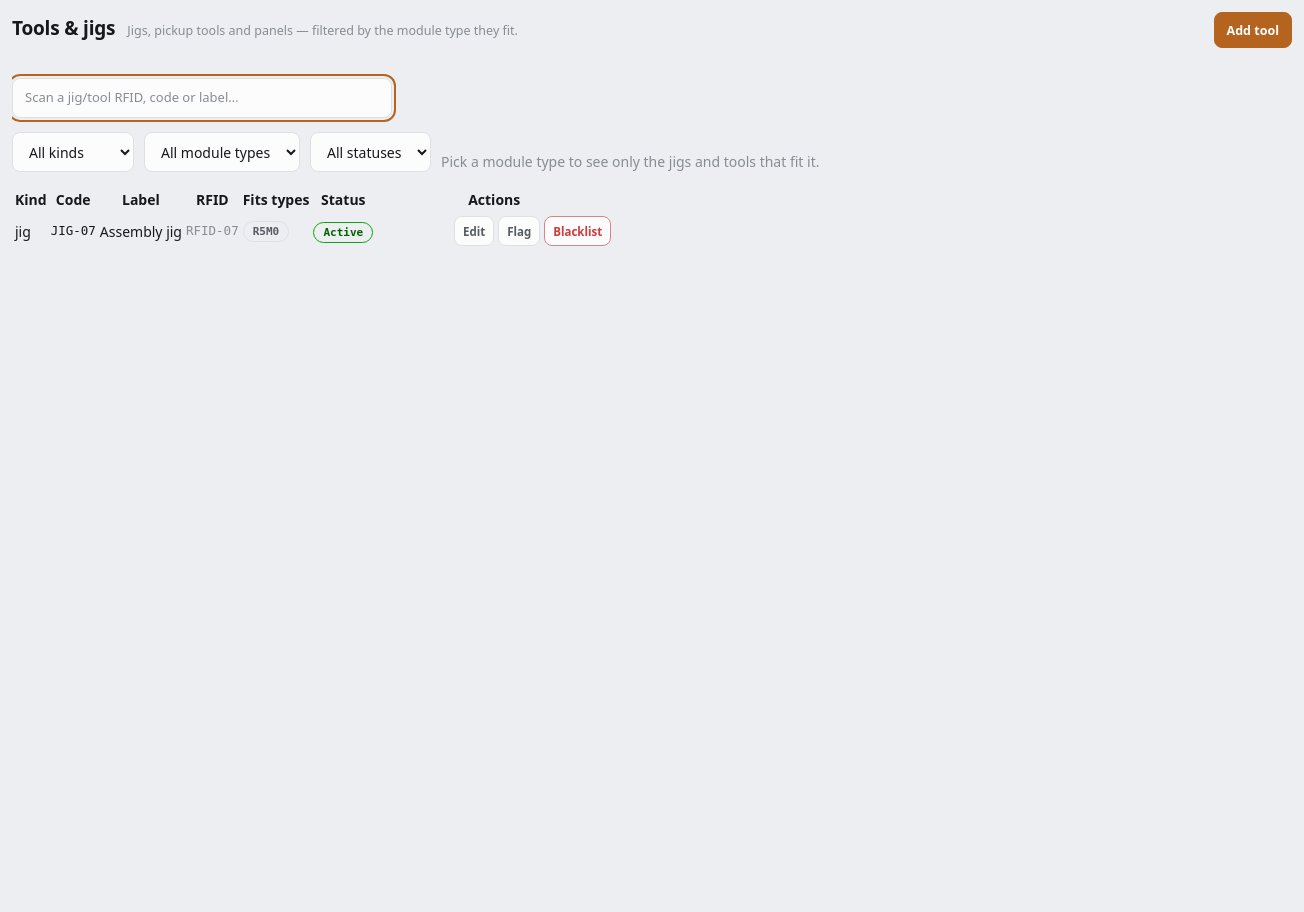
Test: ToolsScreen › creates normalized structured tool data in the selected institute
Check: the text "JIG-07" is shown, box left=50, top=213, right=97, bottom=249
Click the button "Add tool": (1253, 30) left=1214, top=12, right=1292, bottom=48
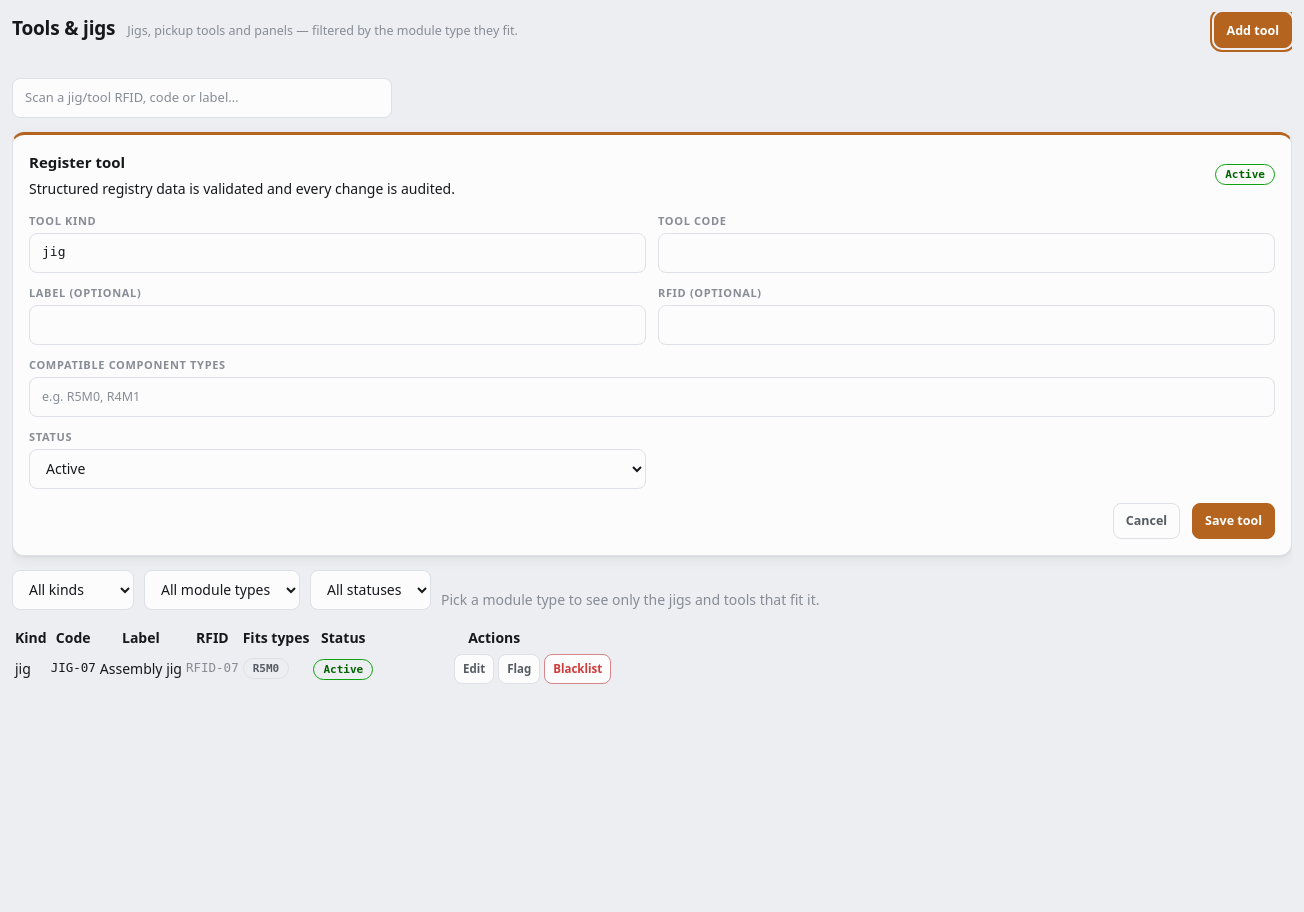
Replace the text in the field labelled "Tool kind" with "pickup_tool": (338, 252) left=29, top=232, right=646, bottom=272
In the field labelled "Tool code": (966, 252) left=658, top=232, right=1275, bottom=272, type "PICKUP-08"
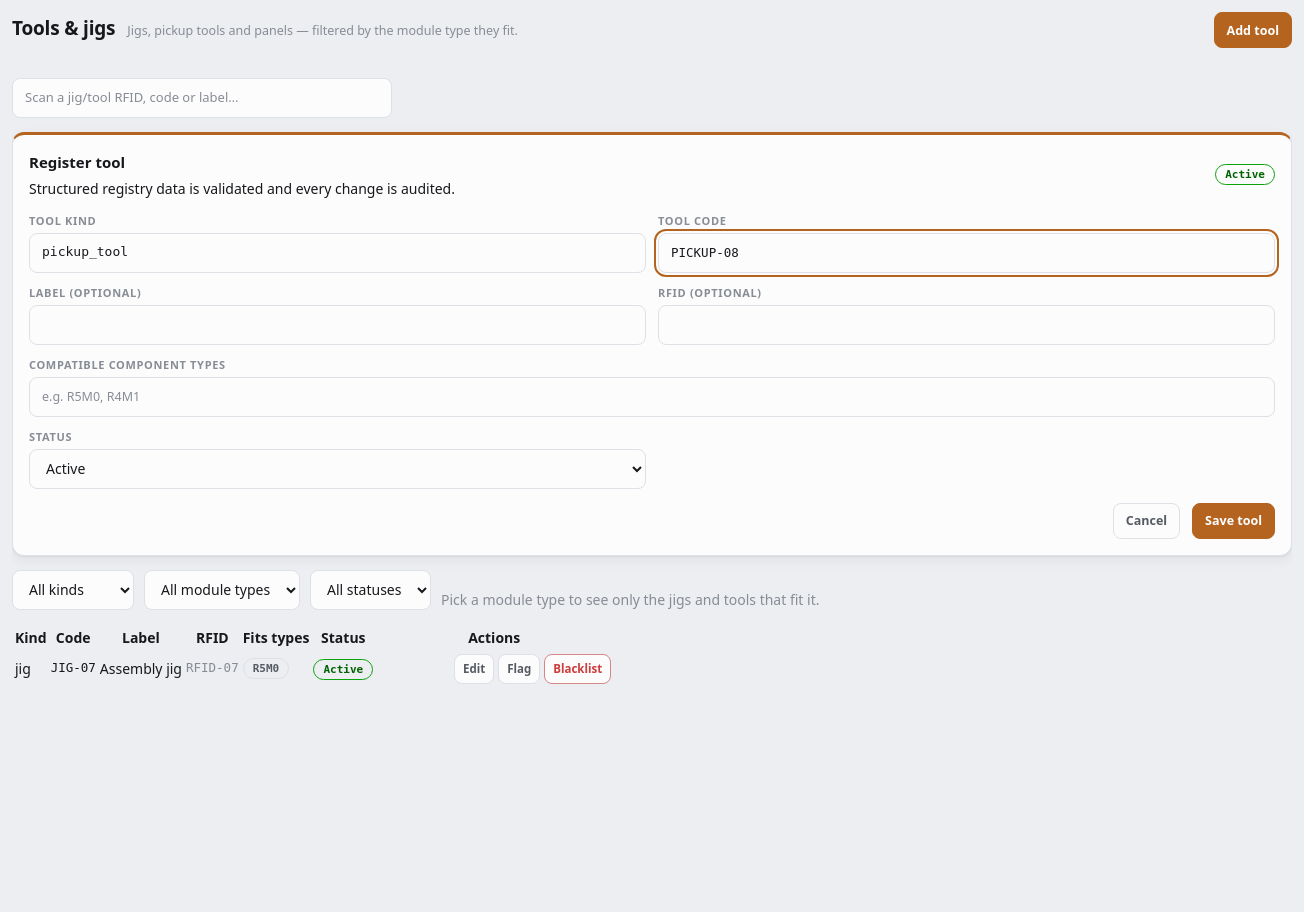
In the field labelled "Label (optional)": (338, 324) left=29, top=304, right=646, bottom=344, type "Pickup station"
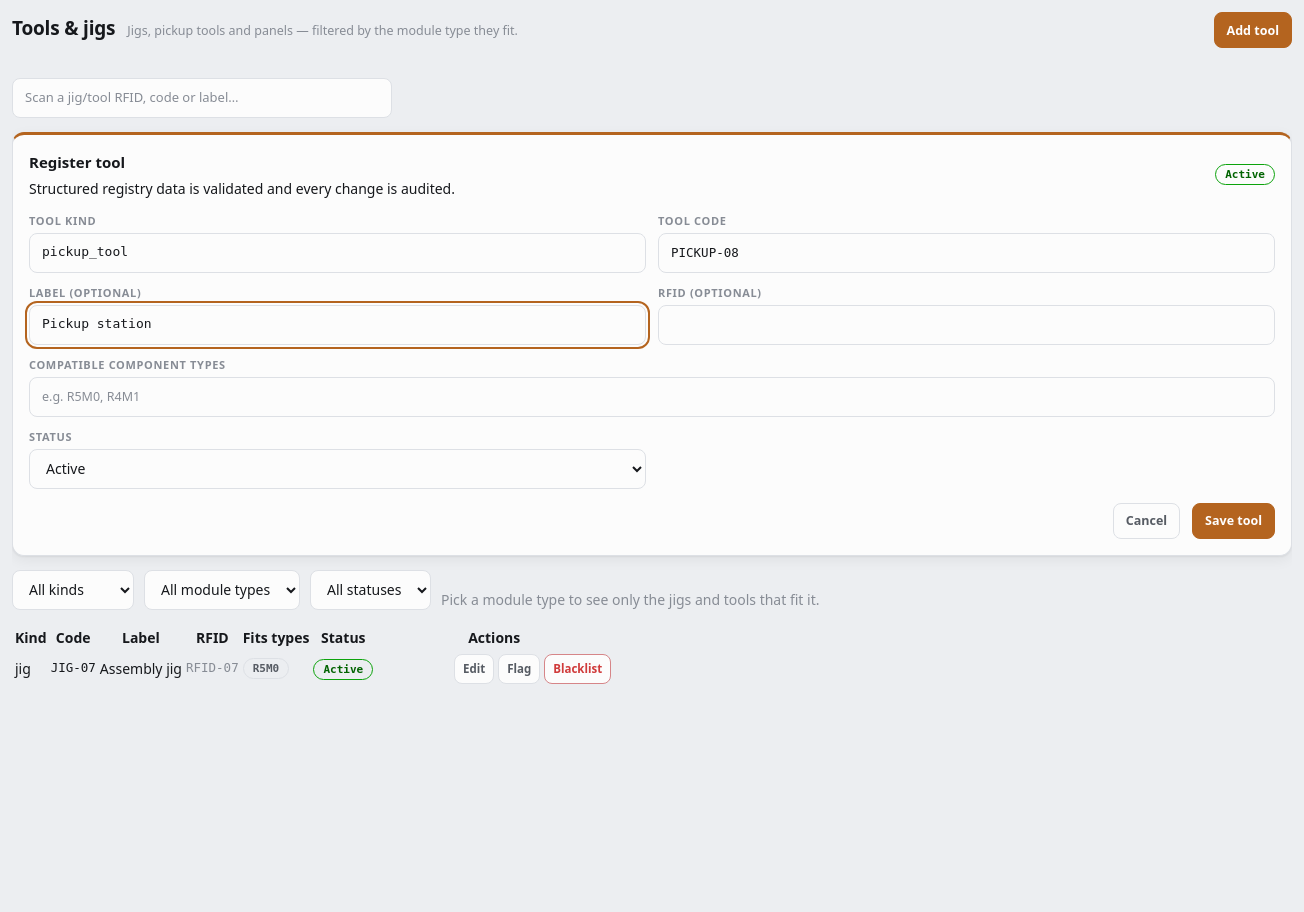
In the field labelled "RFID (optional)": (966, 324) left=658, top=304, right=1275, bottom=344, type "TAG-08"
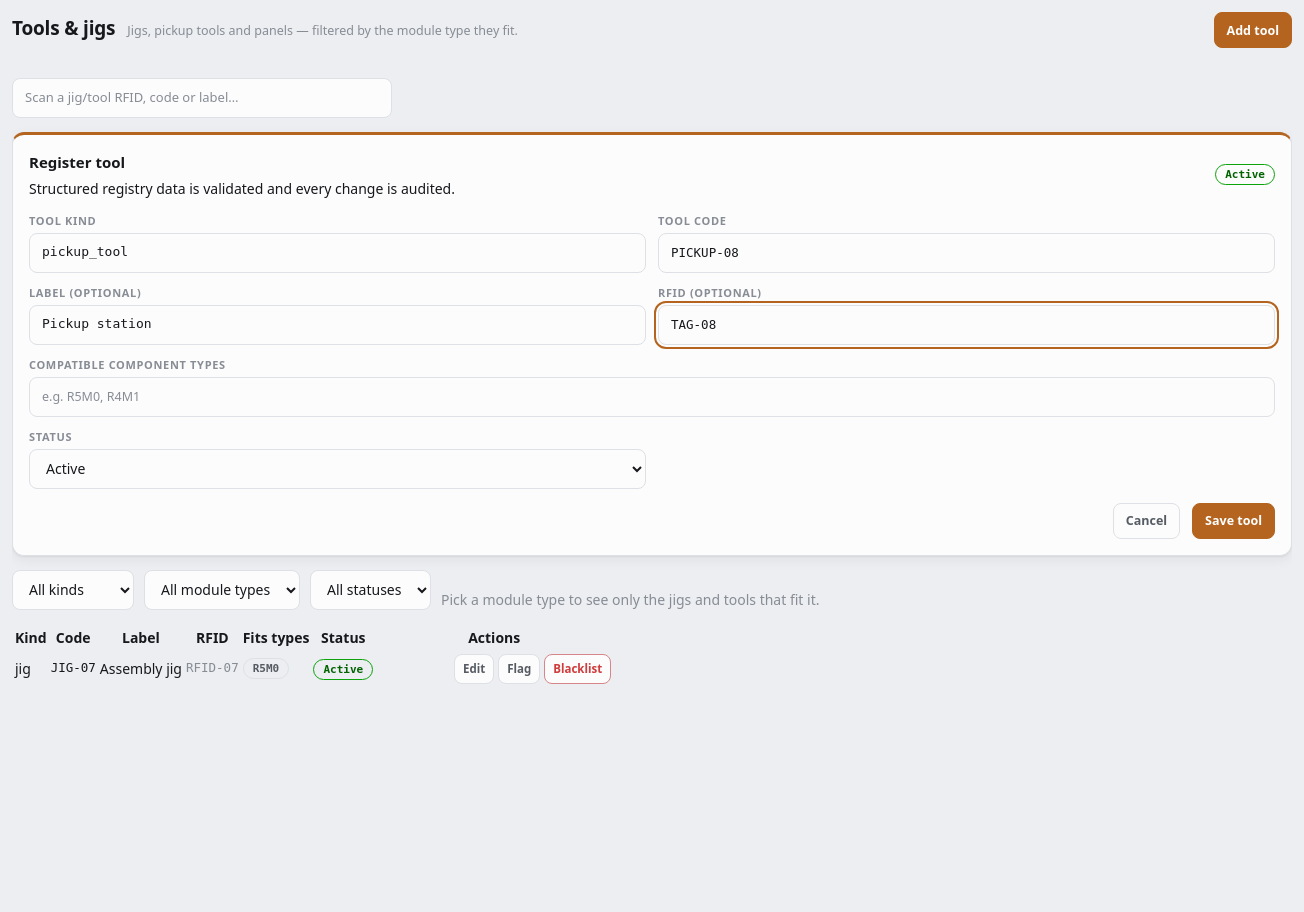
In the field labelled "Compatible component types": (652, 396) left=29, top=376, right=1275, bottom=416, type "r5m0, R5M1 r5m0"
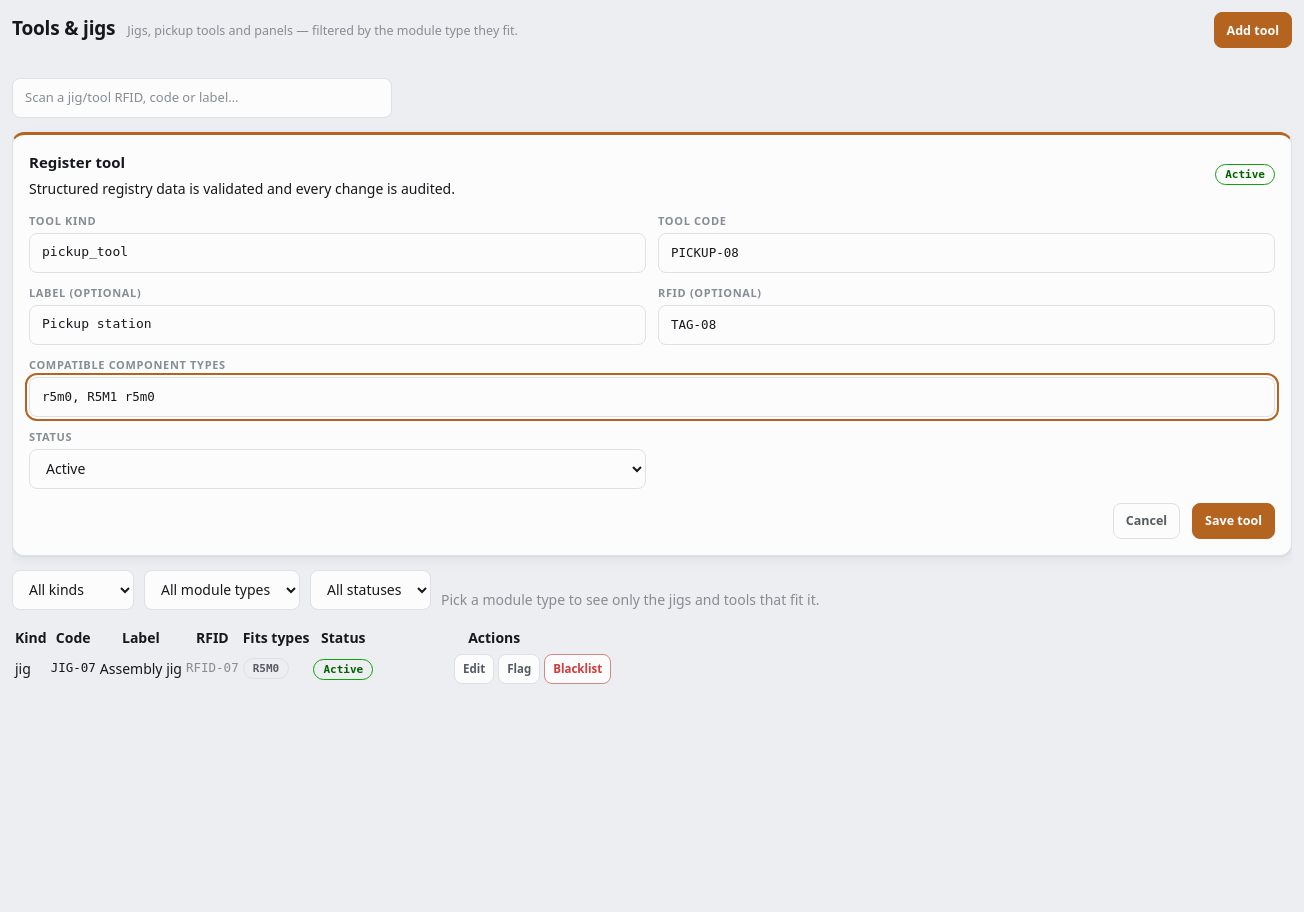
Click the button "Save tool": (1234, 520) left=1192, top=502, right=1275, bottom=538
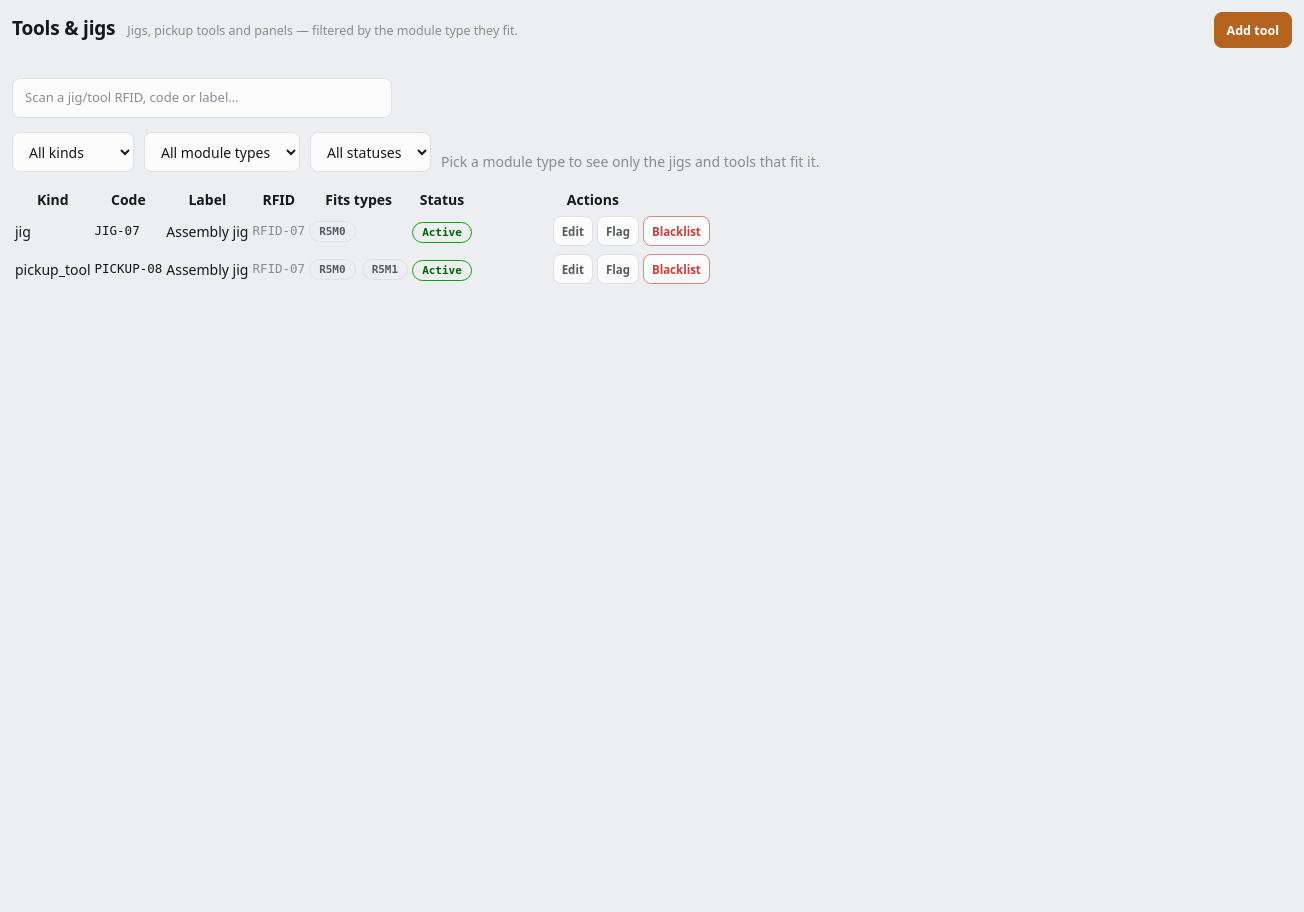
Check: the text "PICKUP-08" is shown, box left=94, top=251, right=163, bottom=287
